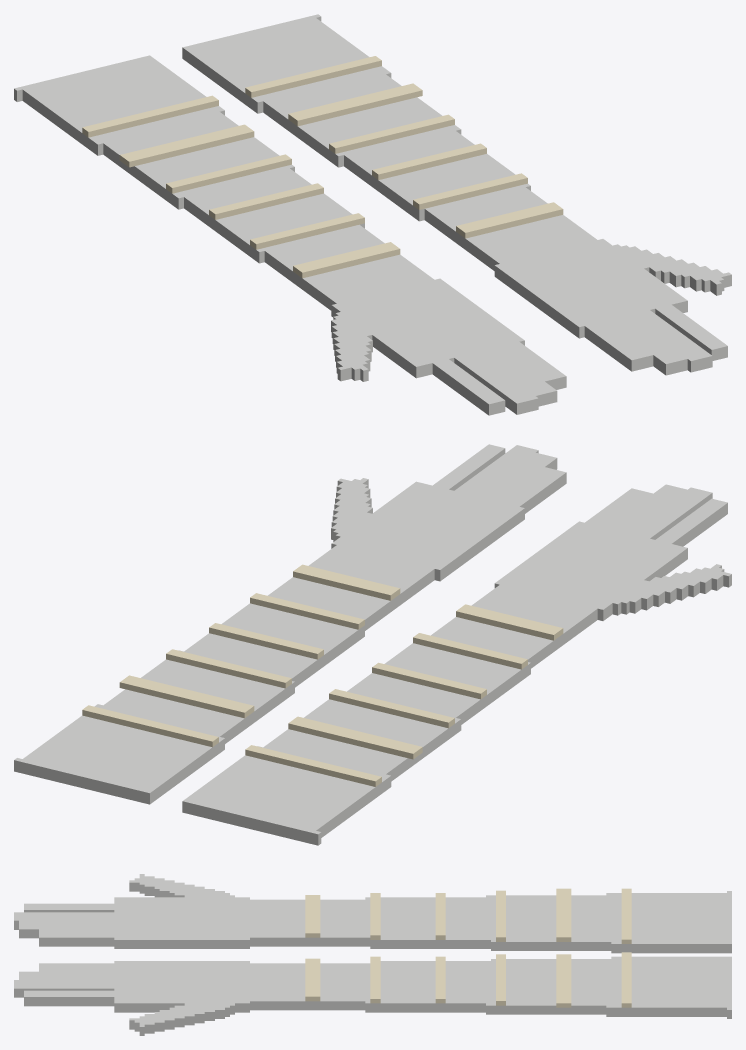
The model's file is long_glove_white.glb.
The picture shows the model from 3 angles, top to bottom: view 1: azimuth 30°, elevation 25°; view 2: azimuth 150°, elevation 25°; view 3: azimuth 270°, elevation 25°; orthographic projection. The views are drawn at different scales.
Parts seen in each view (by area): view 1: long_glove_white:compound; view 2: long_glove_white:compound; view 3: long_glove_white:compound.
Part boxes in pixels (x1,y1,x2,y2): long_glove_white:compound: [14, 14, 731, 415]; long_glove_white:compound: [14, 444, 731, 845]; long_glove_white:compound: [14, 874, 731, 1035].
Bounding box in the file's own units: 0.288 × 0.012 × 0.572.
